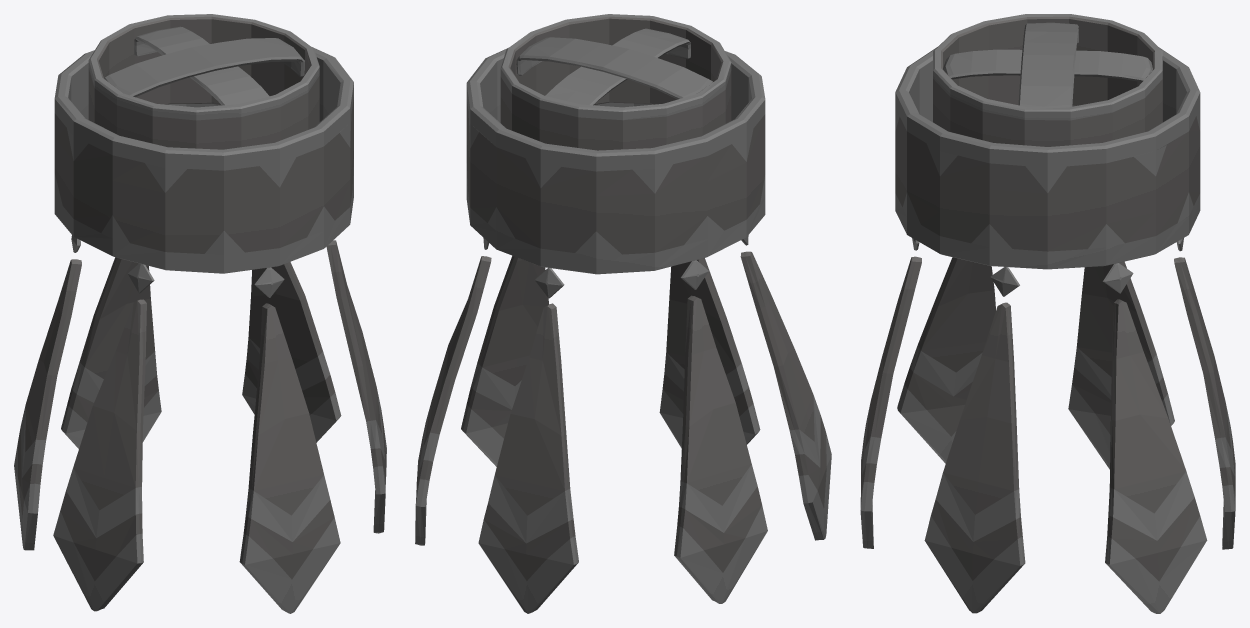
Rendered from CharSkyKid_Prop_ColorKiteJelly.glb.
The picture shows the model from 3 angles, left to right: view 1: azimuth 30°, elevation 25°; view 2: azimuth 150°, elevation 25°; view 3: azimuth 270°, elevation 25°; orthographic projection.
Visible parts, largest first — view 1: CharSkyKid_Prop_ColorKiteJelly; view 2: CharSkyKid_Prop_ColorKiteJelly; view 3: CharSkyKid_Prop_ColorKiteJelly.
Boxes of the visible parts, <box> form: CharSkyKid_Prop_ColorKiteJelly: <box>14,14,386,613</box>; CharSkyKid_Prop_ColorKiteJelly: <box>415,14,831,613</box>; CharSkyKid_Prop_ColorKiteJelly: <box>860,14,1235,613</box>.
Bounding box in the file's own units: 9.81 × 13.39 × 9.19.
Materials: 1 (1 with a texture image).
